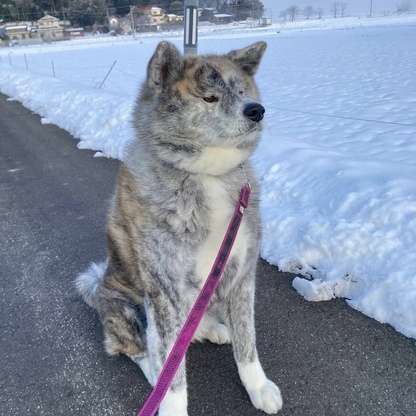akita: (67, 33, 292, 416)
